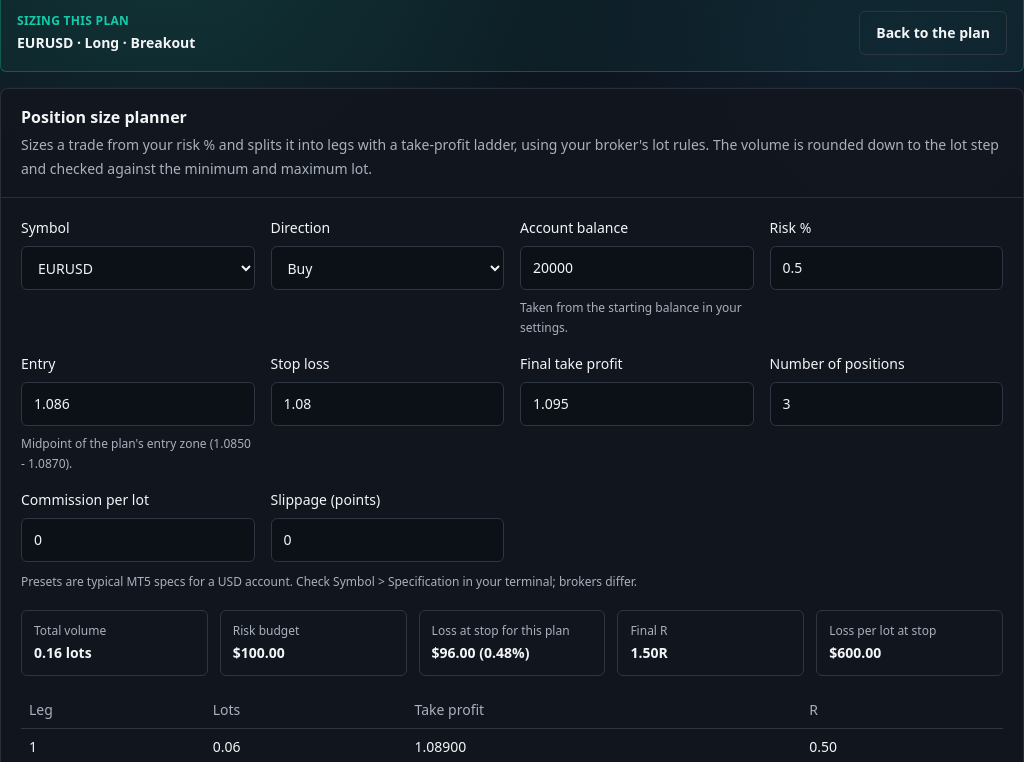
it: limits and warnings › warns, with both numbers, as soon as the risk % passes the strategy's limit, and stops when it is back inside
Step 1. Replace the text in the field labelled "Risk %" with "1.5" → [886, 268], box 770,246 -> 1003,290
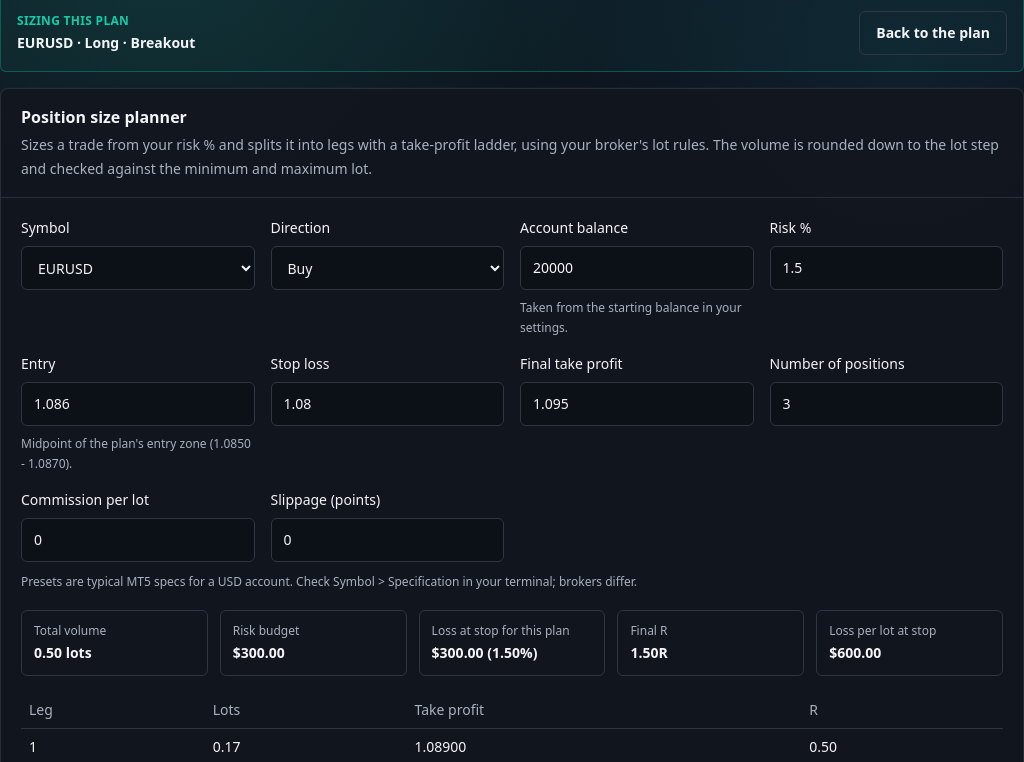
Step 2. Replace the text in the field labelled "Risk %" with "1" → [886, 268], box 770,246 -> 1003,290
(page scrolled)
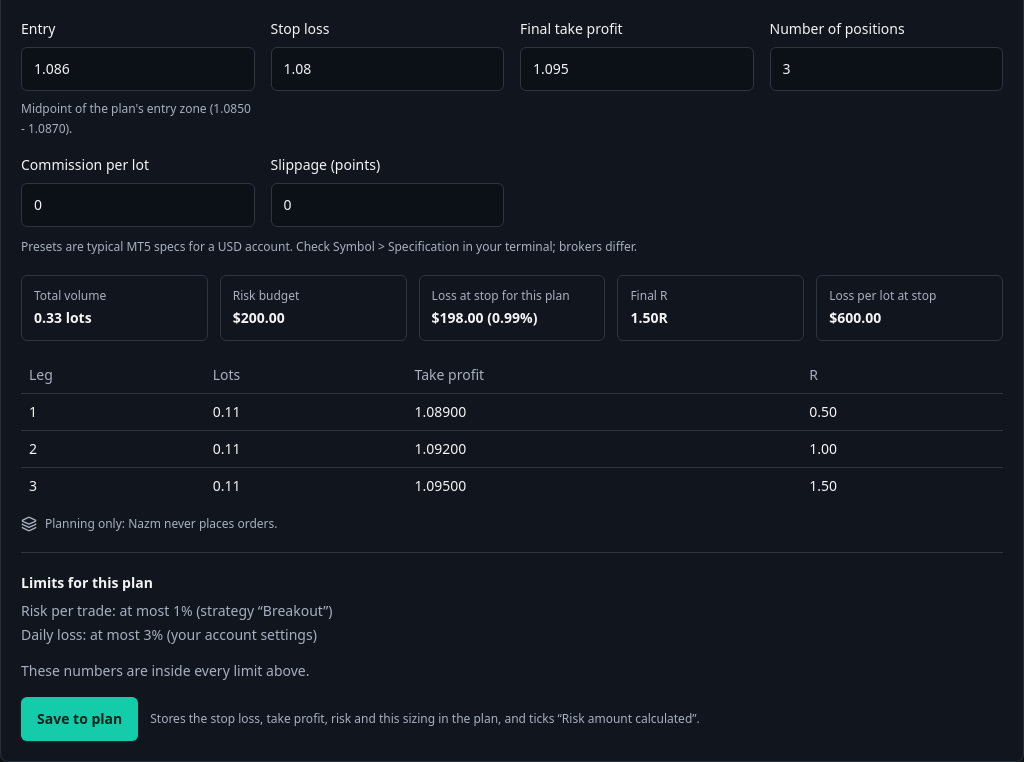
Expected: the message named "Risk limit warnings" does not show "above the", 21,661 -> 310,680
Result: the message named "Risk limit warnings" shows "inside every limit" at 21,661 -> 310,680
